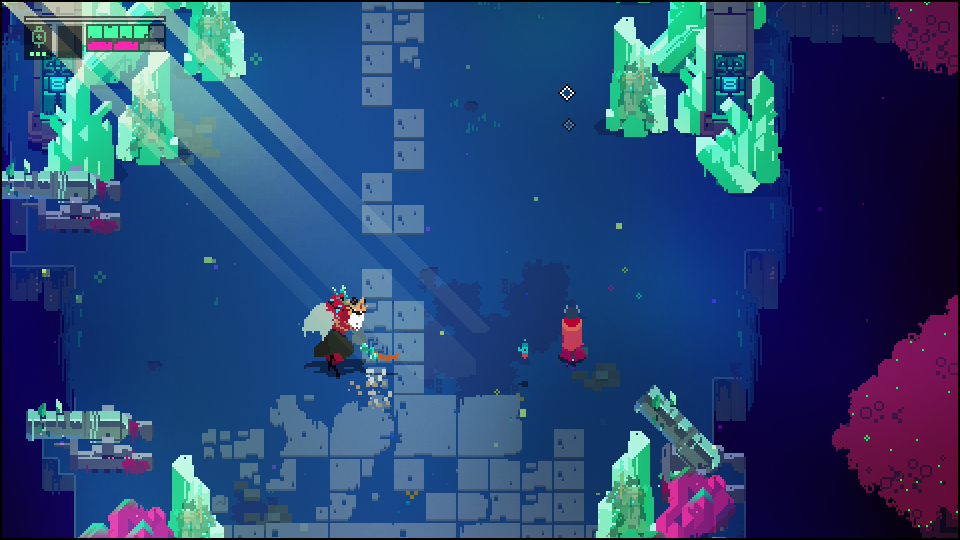hanged_man: (301, 286, 381, 375)
player: (560, 300, 586, 365)
